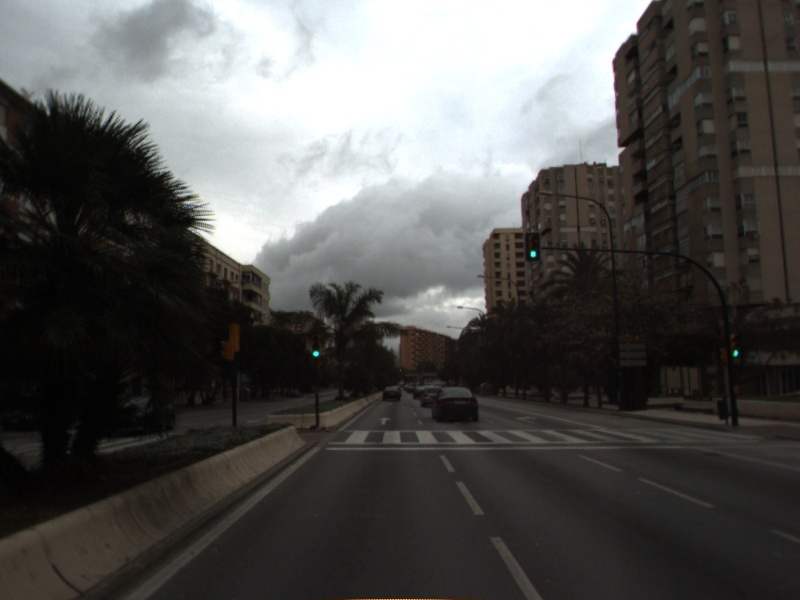RIGHT: (512, 413, 539, 426)
STRAIGHT: (376, 415, 394, 427)
